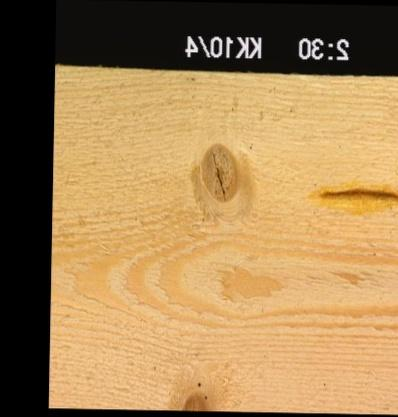edge_knot: (175, 377, 212, 409)
sound_knot: (198, 140, 241, 204)
